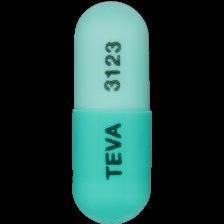55289-592: (0, 0, 224, 224)
